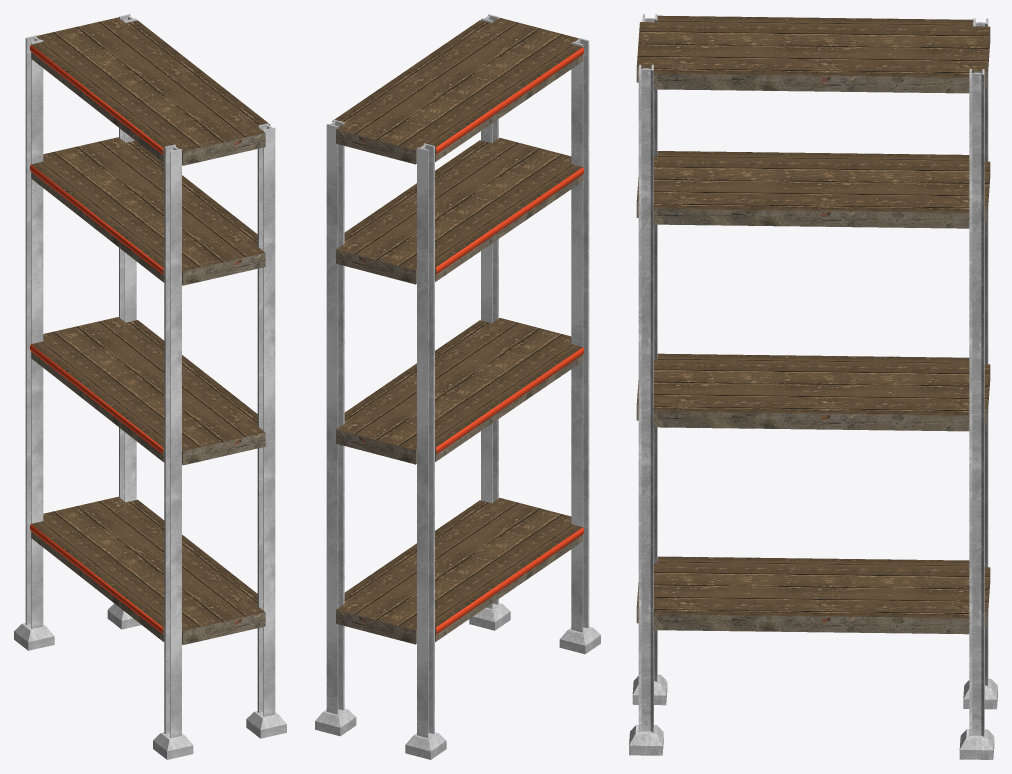
The model's file is Large Shelf.fbx.
3 renders of one model, left to right at view 1: azimuth 30°, elevation 25°; view 2: azimuth 150°, elevation 25°; view 3: azimuth 270°, elevation 25°, orthographic. The views are drawn at different scales.
Parts seen in each view (by area): view 1: Large Shelf, NonBaked.005; view 2: Large Shelf, NonBaked.005; view 3: Large Shelf, NonBaked.005.
Boxes of the visible parts, x1,y1,x2,y2 form: Large Shelf: (30,17,270,644); NonBaked.005: (14,14,286,759); Large Shelf: (332,17,583,644); NonBaked.005: (315,14,600,759); Large Shelf: (636,15,990,634); NonBaked.005: (629,14,997,759).
Bounding box in the file's own units: 67.13 × 307 × 151.
